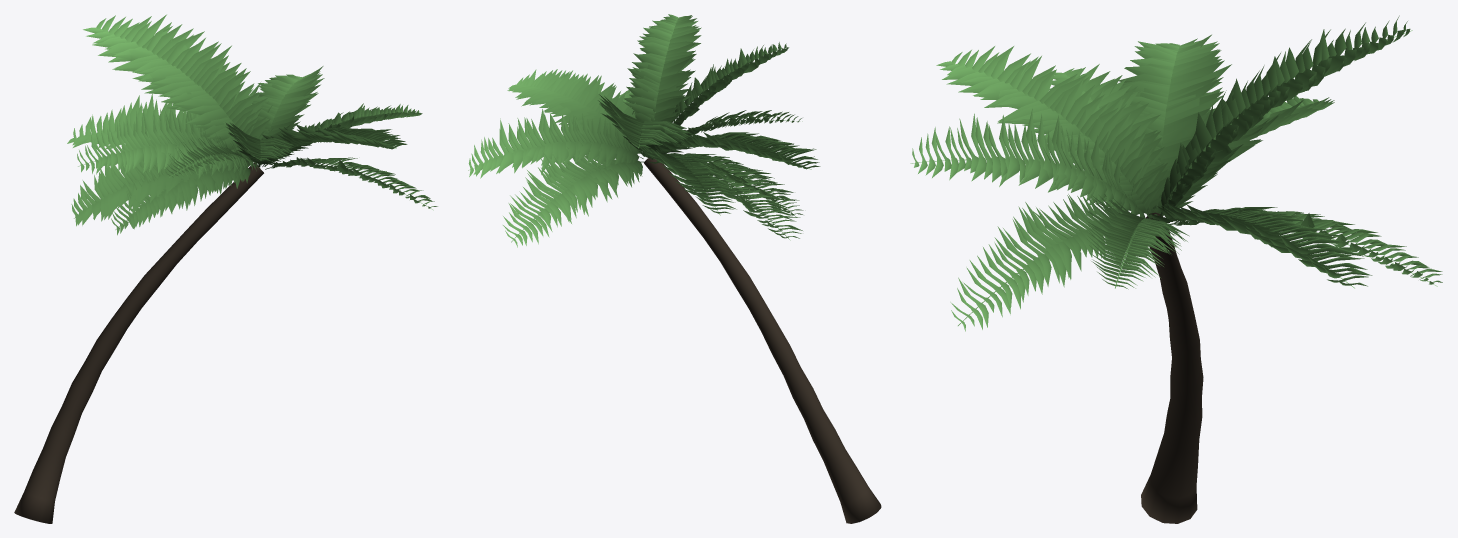
File: SM_Palm_07_DramaticCurve.fbx
The picture shows the model from 3 angles, left to right: view 1: azimuth 30°, elevation 25°; view 2: azimuth 150°, elevation 25°; view 3: azimuth 270°, elevation 25°; orthographic projection. The views are drawn at different scales.
Visible parts, largest first — view 1: SM_Palm_07_DramaticCurve; view 2: SM_Palm_07_DramaticCurve; view 3: SM_Palm_07_DramaticCurve.
Part boxes in pixels (x1,y1,x2,y2): SM_Palm_07_DramaticCurve: [14, 14, 437, 523]; SM_Palm_07_DramaticCurve: [468, 14, 881, 523]; SM_Palm_07_DramaticCurve: [910, 15, 1442, 523].
Bounding box in the file's own units: 681 × 700 × 559.
